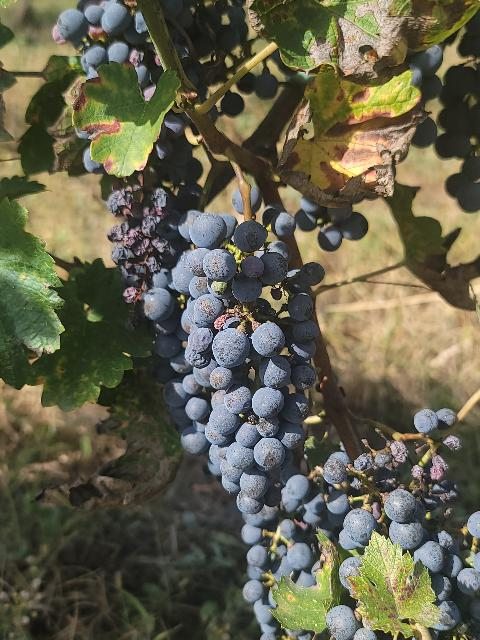grapes: (174, 211, 324, 514), (282, 438, 480, 640)
